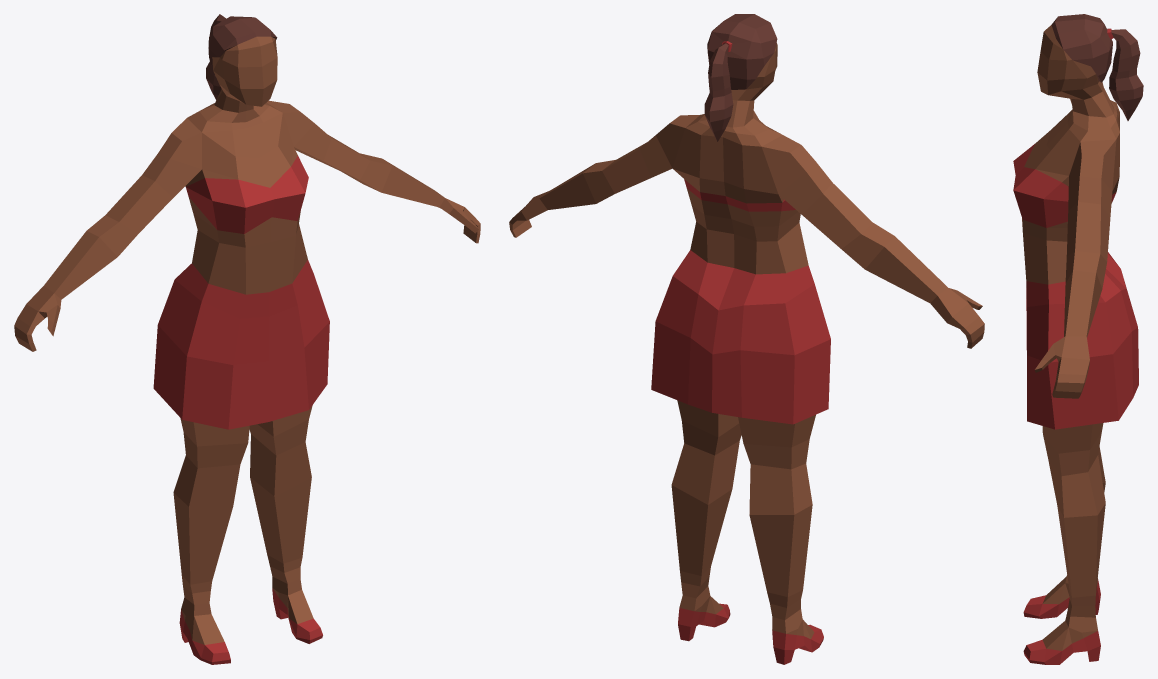
Rendered from female_01_b.fbx.
The picture shows the model from 3 angles, left to right: view 1: azimuth 30°, elevation 25°; view 2: azimuth 150°, elevation 25°; view 3: azimuth 270°, elevation 25°; orthographic projection.
Parts seen in each view (by area): view 1: female_01_b; view 2: female_01_b; view 3: female_01_b.
Boxes of the visible parts, box(x1,y1,x2,y2) form: female_01_b: box(14, 14, 480, 664); female_01_b: box(509, 14, 984, 664); female_01_b: box(1013, 14, 1143, 664).
Size of the model in its own units: 124 by 160 by 30.55.
1 material, 1 textured.
